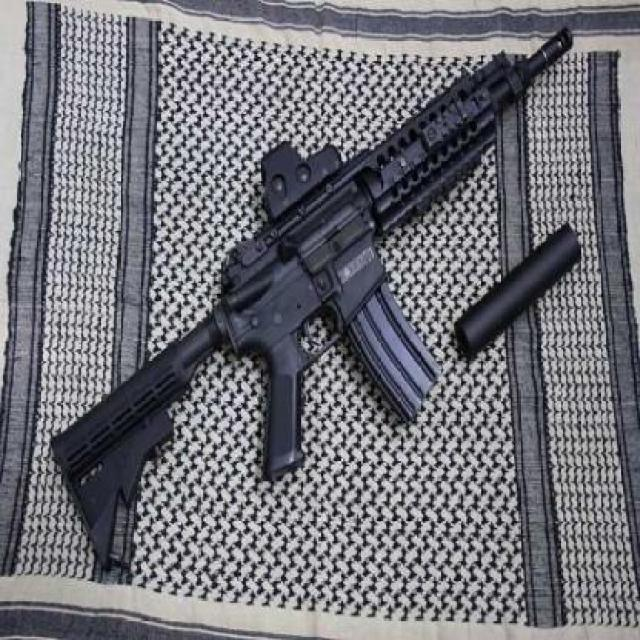weapon: (51, 26, 578, 574)
